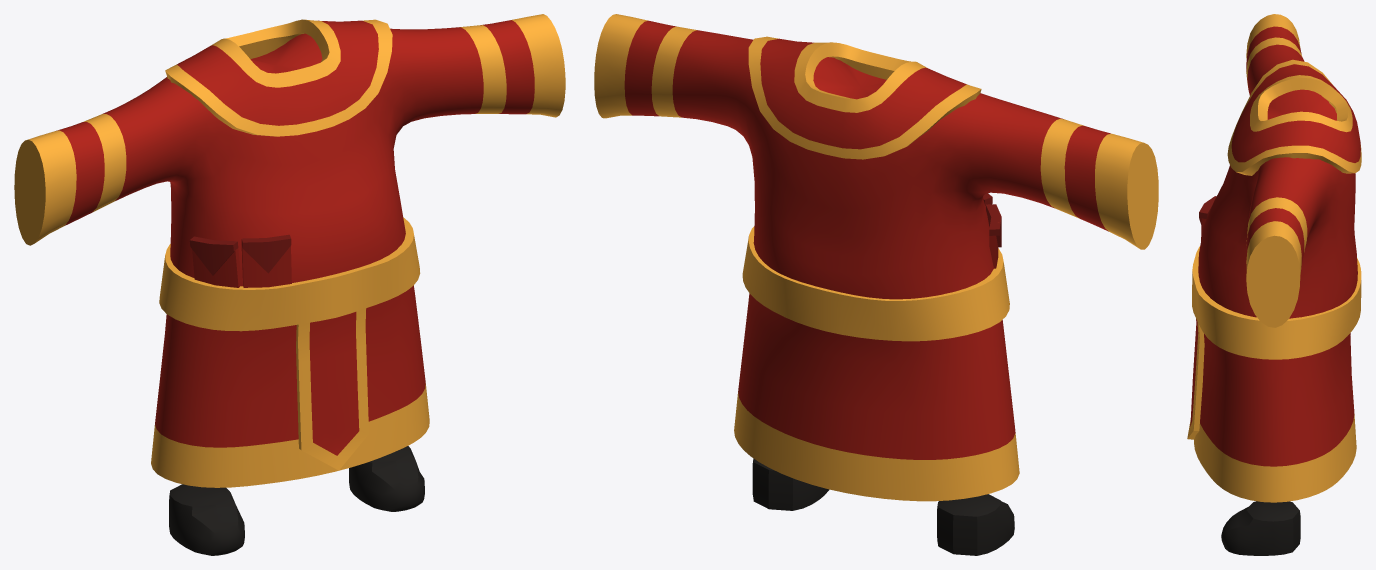
The model's file is 21财神套装.fbx.
3 renders of one model, left to right at view 1: azimuth 30°, elevation 25°; view 2: azimuth 150°, elevation 25°; view 3: azimuth 270°, elevation 25°, orthographic. The views are drawn at different scales.
Parts seen in each view (by area): view 1: 21财神套装, CaishenFootRight_0, CaishenFootLeft_0; view 2: 21财神套装, CaishenFootRight_0, CaishenFootLeft_0; view 3: 21财神套装, CaishenFootLeft_0.
Part boxes in pixels (box(x1,y1,x2,y2)): 21财神套装: box(14, 14, 565, 487); CaishenFootRight_0: box(169, 484, 244, 555); CaishenFootLeft_0: box(349, 446, 424, 511); 21财神套装: box(594, 14, 1158, 501); CaishenFootRight_0: box(937, 494, 1014, 555); CaishenFootLeft_0: box(752, 458, 829, 510); 21财神套装: box(1187, 14, 1361, 502); CaishenFootLeft_0: box(1221, 501, 1300, 555).
Size of the model in its own units: 1.33 by 1.14 by 0.4344.
